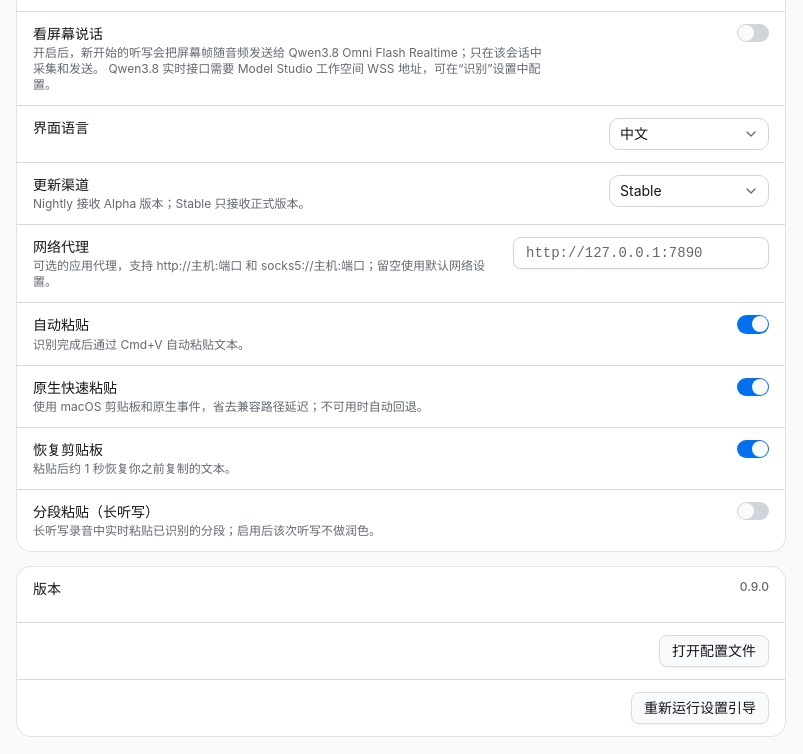
general settings rerun setup confirmation › cancel disarms the confirmation without posting
(page scrolled)
Click the button "重新运行设置引导": (700, 708) [631,692,769,724]
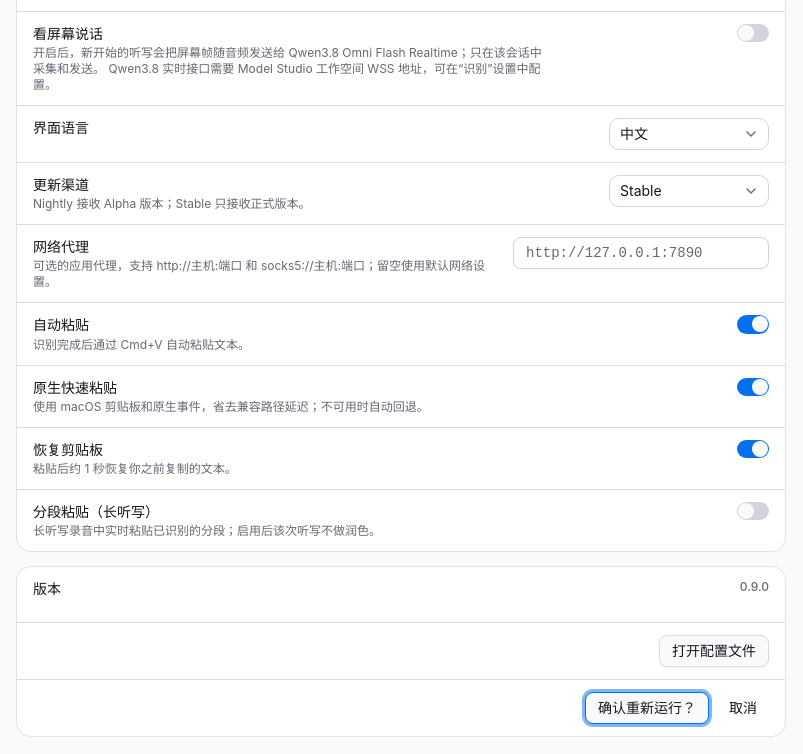
Click the button "取消": (743, 708) [717,692,769,724]
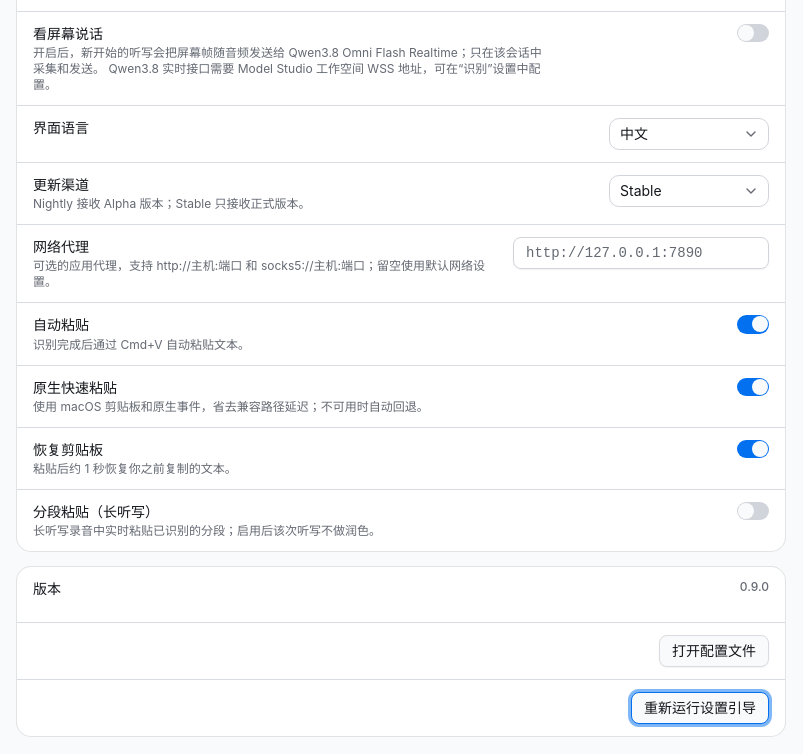
Now the button "重新运行设置引导" is shown, box [631,692,769,724]
